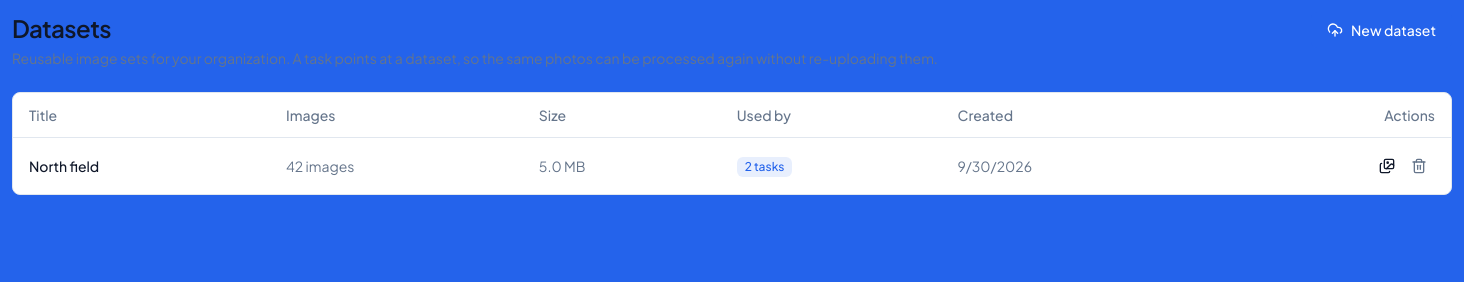
Test: Datasets page › surfaces the "still used by a task" refusal as guidance, not a toast error
The image size is (1464, 282).
Click the button named "Still used by a task": x=1419, y=166 [1403, 150, 1435, 182]
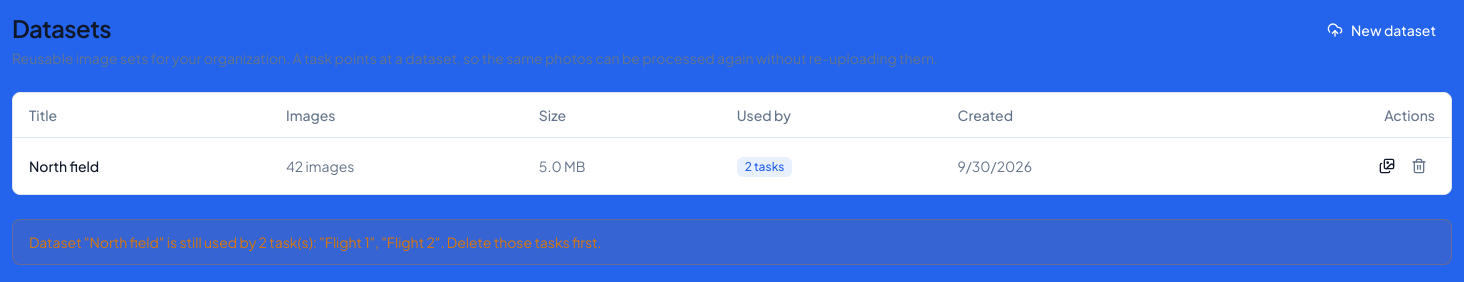
Expected: the message is shown, [12, 219, 1452, 265]
Expected: the message shows "Flight 1", [29, 233, 602, 251]
Expected: the message shows "Flight 2", [29, 233, 602, 251]
